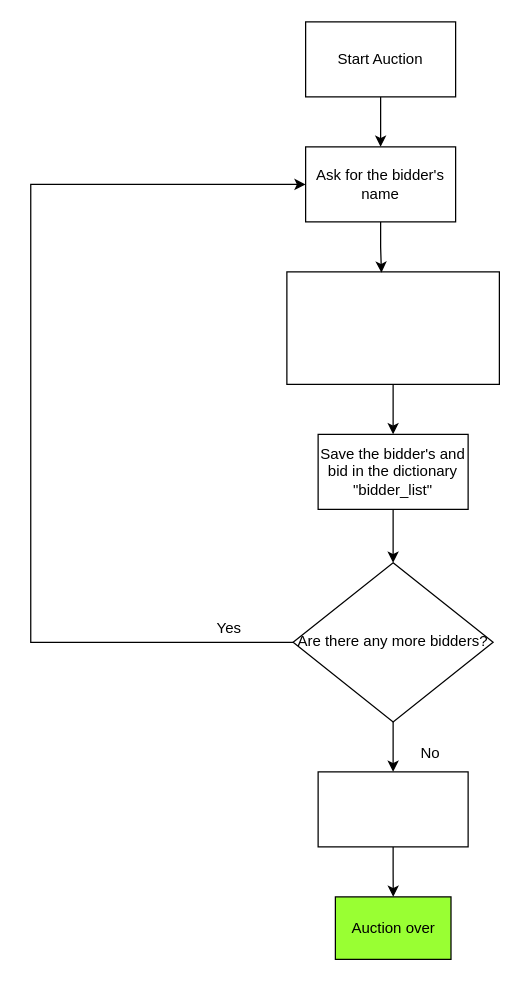
This 521x981 diagram has some shape labels left out. The centre of each missing label's shape, as x and y in pixels:
Ask for the bidder's bid: (x=392, y=327)
Find the highest bid using the "max_bid" function: (x=392, y=809)
